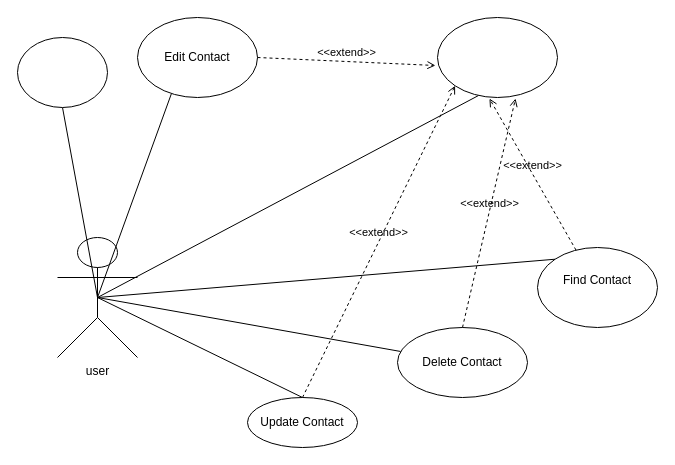
The diagram is 675 pixels wide and 465 high, and some of its shapes have lost their labels. The centre of each missing label's shape, as x and y in pixels:
"Create Contact" goes at point (497, 57).
"Signup" goes at point (62, 72).
